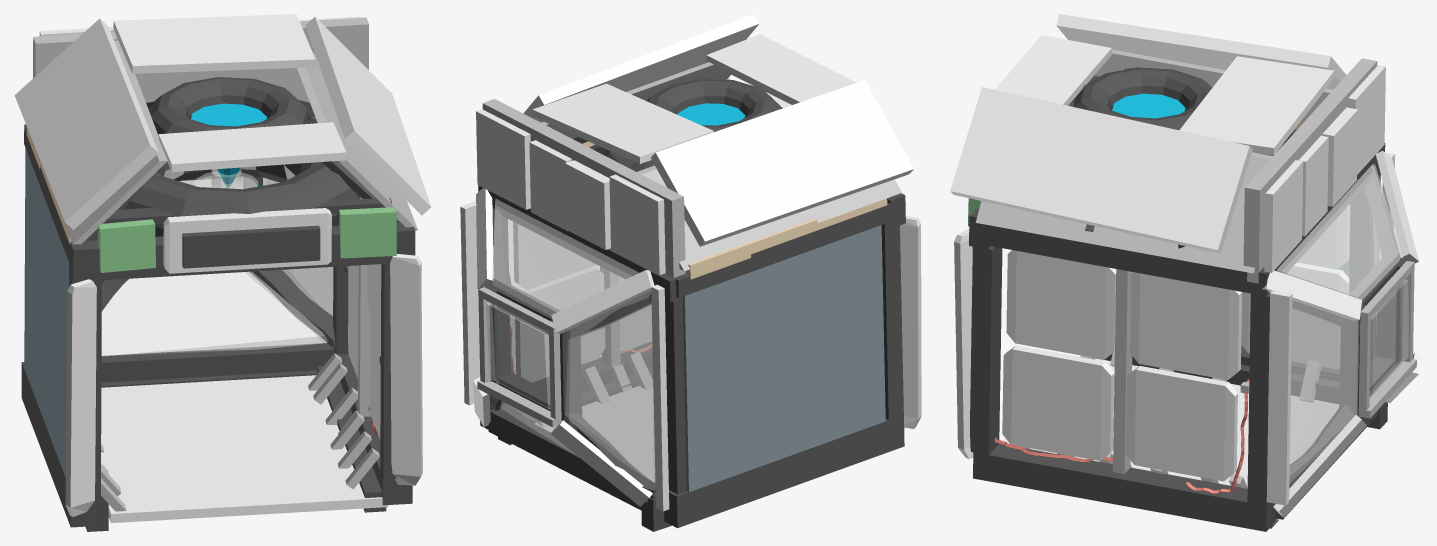
The model's file is ScifiRoom.glb.
3 renders of one model, left to right at view 1: azimuth 30°, elevation 25°; view 2: azimuth 150°, elevation 25°; view 3: azimuth 270°, elevation 25°, orthographic. The views are drawn at different scales.
Parts seen in each view (by area): view 1: group850845920, group448293129, group1954341826, group433223640, group756095685, group1196184876, group1675425840, group1524654093, group514828458, group677378366, group1014557874, group1704661422 (+30 smaller); view 2: group850845920, group433223640, group715230217, group1770720979, group1586062615, group677378366, group1261051164, group1814801565, group497396151, group49689845, group1675425840, group448293129 (+38 smaller); view 3: group850845920, group1931685760, group87901644, group497396151, group1211692858, group519941074, group930960358, group1770720979, group350633234, group1009346524, group1628719068, group677378366 (+35 smaller).
Part boxes in pixels (x1,y1,x2,y2): group850845920: (14, 14, 431, 229); group448293129: (101, 375, 388, 523); group1954341826: (101, 271, 327, 355); group433223640: (24, 148, 68, 477); group756095685: (124, 162, 359, 236); group1196184876: (390, 254, 422, 485); group1675425840: (65, 279, 96, 516); group1524654093: (101, 343, 334, 382); group514828458: (150, 77, 308, 134); group677378366: (33, 17, 368, 118); group1014557874: (182, 225, 320, 268); group1704661422: (163, 208, 331, 273); group850845920: (523, 14, 913, 246); group433223640: (682, 225, 885, 492); group715230217: (565, 291, 655, 482); group1770720979: (492, 198, 638, 315); group1586062615: (664, 415, 904, 528); group677378366: (482, 99, 685, 277); group1261051164: (486, 302, 550, 409); group1814801565: (609, 174, 665, 275); group497396151: (515, 267, 605, 382); group49689845: (476, 109, 530, 209); group1675425840: (900, 216, 921, 428); group448293129: (534, 386, 654, 482); group850845920: (950, 14, 1346, 253); group1931685760: (973, 443, 1276, 531); group87901644: (1002, 345, 1114, 460); group497396151: (1126, 366, 1237, 481); group1211692858: (1006, 250, 1116, 359); group519941074: (1130, 272, 1241, 379); group930960358: (1289, 299, 1358, 483); group1770720979: (1277, 164, 1400, 300); group350633234: (975, 152, 1272, 273); group1009346524: (970, 246, 1002, 454); group1628719068: (988, 225, 1247, 292); group677378366: (1243, 58, 1377, 283).
Size of the model in its own units: 1.08 by 1.02 by 1.14.
